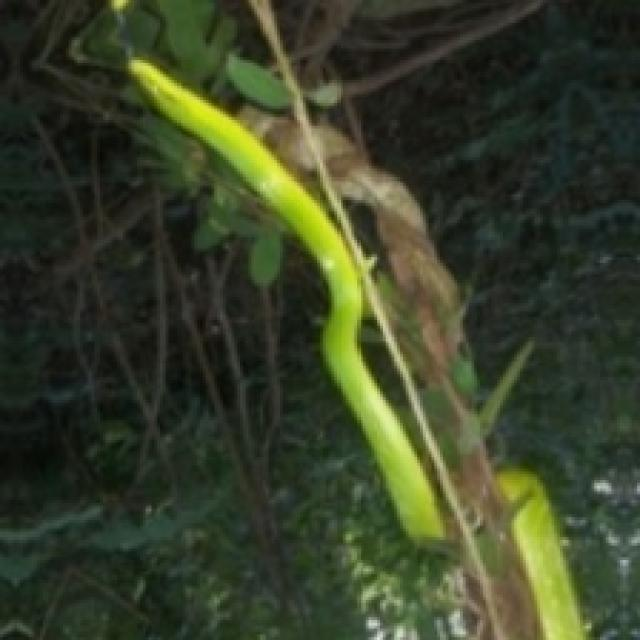red-tailed green ratsnake: (129, 57, 443, 537), (496, 470, 586, 639)
